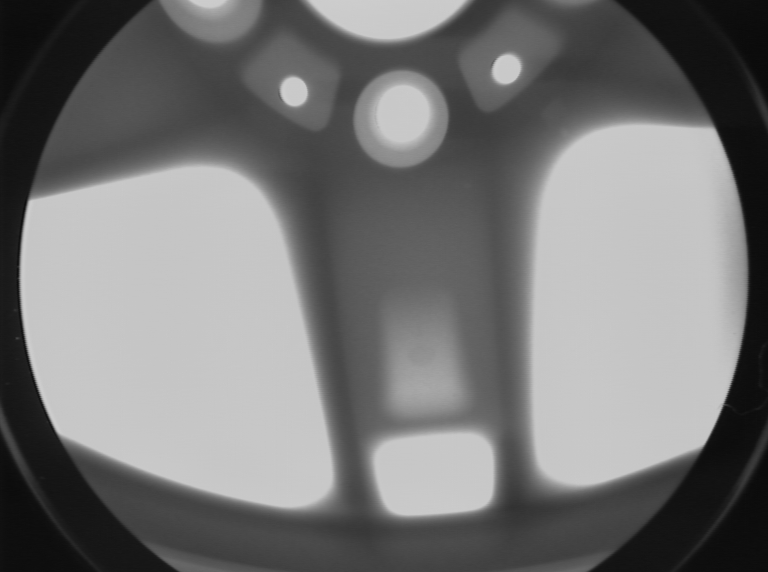defect: (460, 175, 479, 196)
